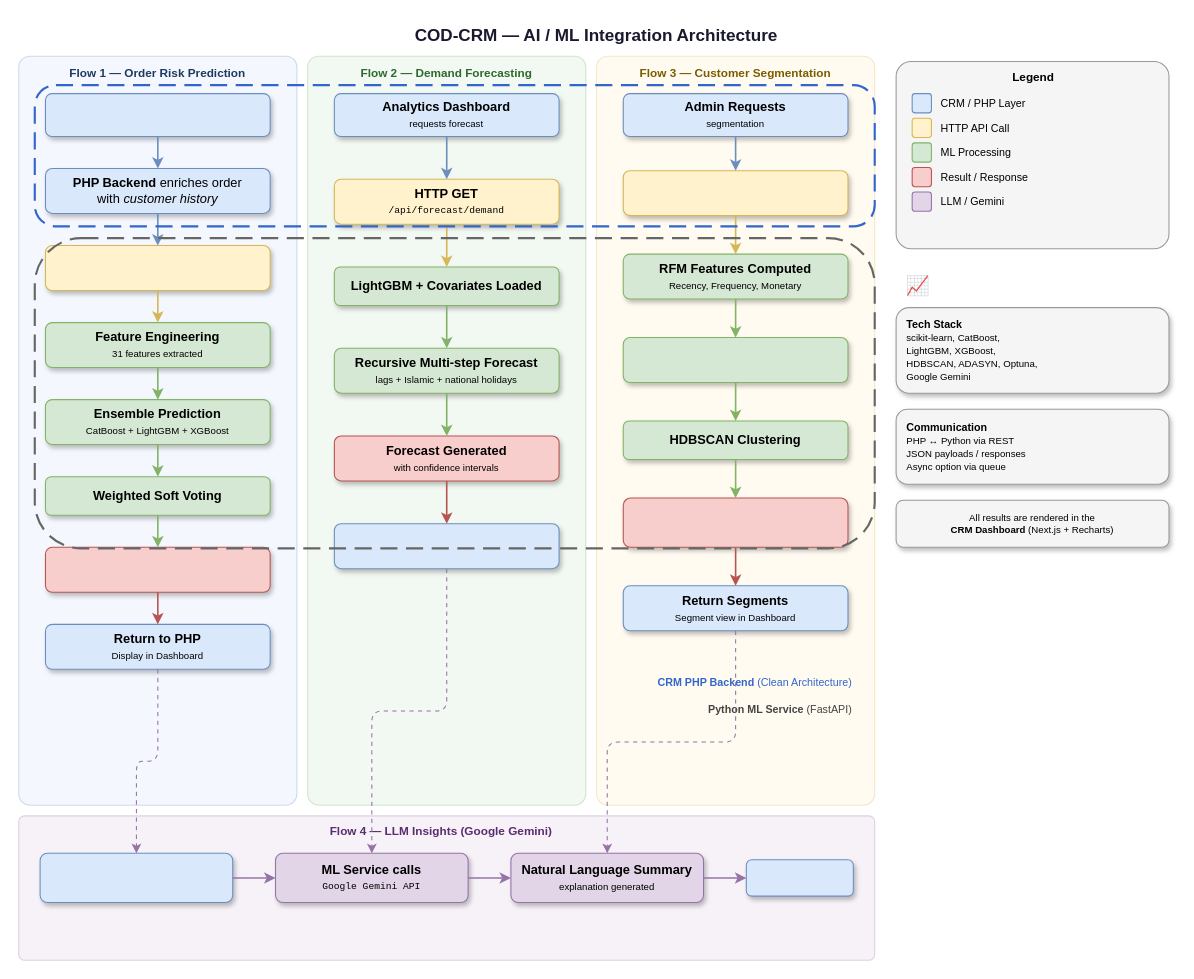
Some shapes in this 1194 by 979 pixel diagram are drawn without their labels. Each missing label, with the centre of its shape:
HTTP GET /api/segment/customers: the point at 736,194
HTTP POST /api/predict/order-risk: the point at 158,269
New Order Created (in CRM): the point at 158,116
Return Predictions Chart in Dashboard: the point at 447,547
Return to User: the point at 800,879
Risk Score (0-100) + Category + Reasons: the point at 158,571
Segment Labels Assigned VIP | Loyal | At Risk | Lost | Standard: the point at 736,524
StandardScaler normalization: the point at 736,361
User Requests Insights in any language (AR / FR / EN): the point at 137,879
